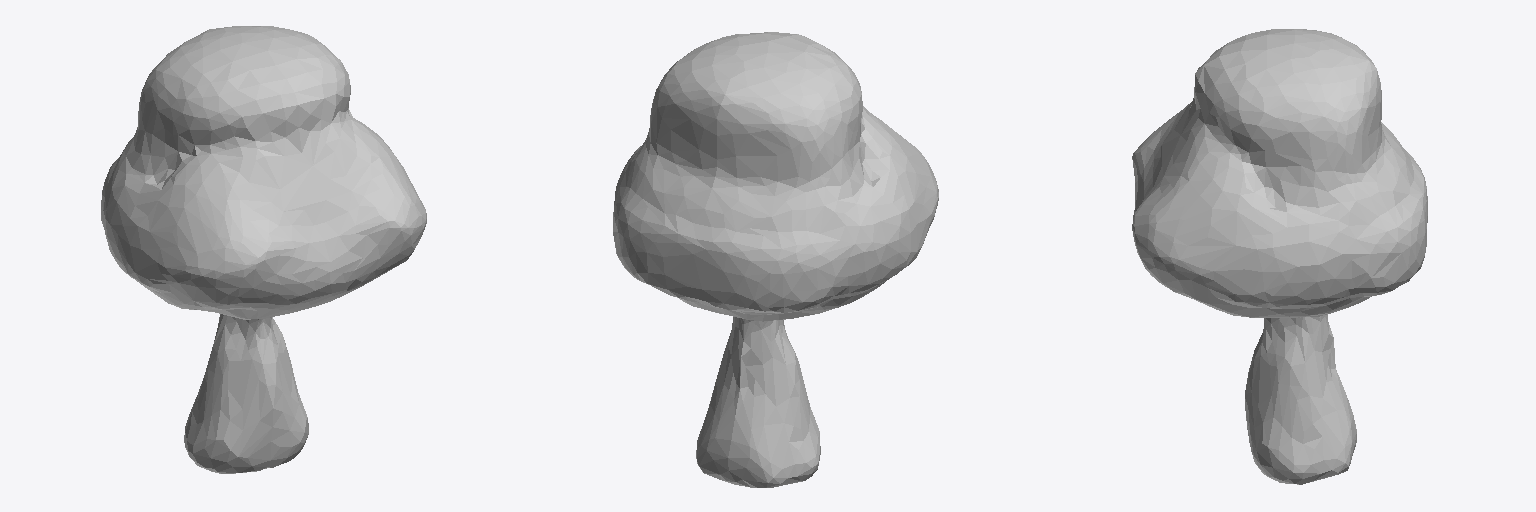
Rendered from tree_model_lite.obj.
3 renders of one model, left to right at view 1: azimuth 30°, elevation 25°; view 2: azimuth 150°, elevation 25°; view 3: azimuth 270°, elevation 25°, orthographic.
Visible parts, largest first — view 1: tree_model; view 2: tree_model; view 3: tree_model.
Part boxes in pixels (left/top/right/bottom): tree_model: left=101, top=26, right=426, bottom=473; tree_model: left=613, top=32, right=938, bottom=487; tree_model: left=1132, top=29, right=1427, bottom=484.
Size of the model in its own units: 1.35 by 1.99 by 1.27.